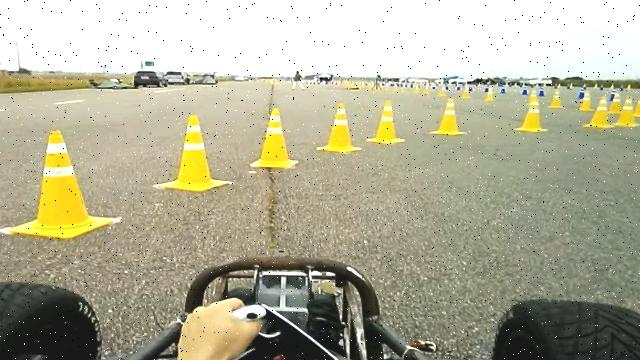yellow cone: (0, 128, 118, 239), (154, 114, 234, 192), (250, 108, 299, 168), (317, 102, 362, 153), (366, 99, 406, 144), (428, 97, 466, 136), (582, 93, 614, 133), (514, 100, 549, 132), (618, 96, 639, 128)
